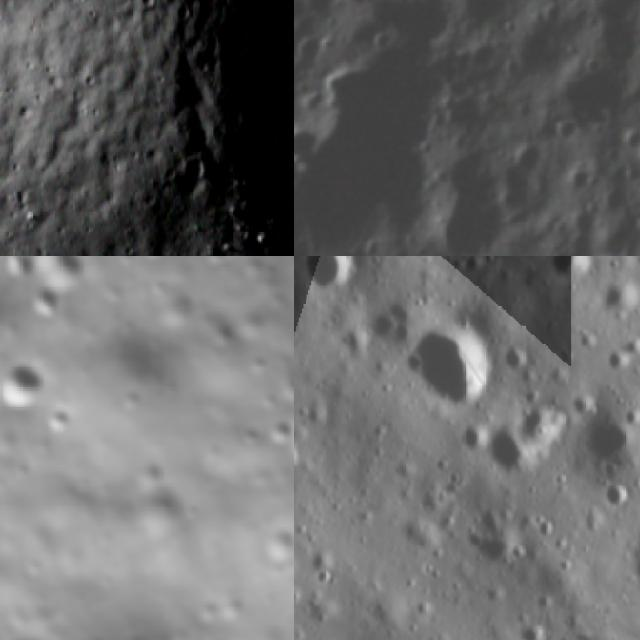crater: (383, 300, 519, 434), (415, 153, 512, 256), (567, 395, 640, 484), (459, 501, 537, 578), (498, 390, 574, 466), (357, 288, 431, 361), (294, 256, 369, 304), (583, 265, 640, 328), (0, 353, 49, 417), (532, 256, 605, 295), (461, 494, 514, 543), (586, 469, 636, 518), (296, 536, 346, 584), (440, 90, 487, 141), (294, 113, 331, 170), (469, 571, 512, 614), (256, 521, 294, 569), (23, 282, 63, 323), (594, 339, 634, 377), (525, 506, 562, 542), (509, 611, 554, 640), (37, 406, 73, 440), (294, 431, 313, 485), (260, 418, 292, 450), (5, 459, 34, 483), (627, 305, 640, 350), (411, 631, 445, 640)
